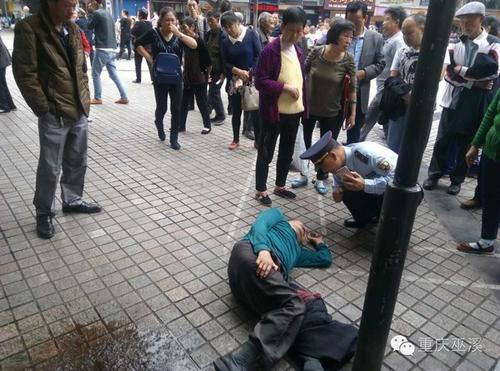10+: (1, 1, 500, 371)
down: (208, 205, 335, 371)
